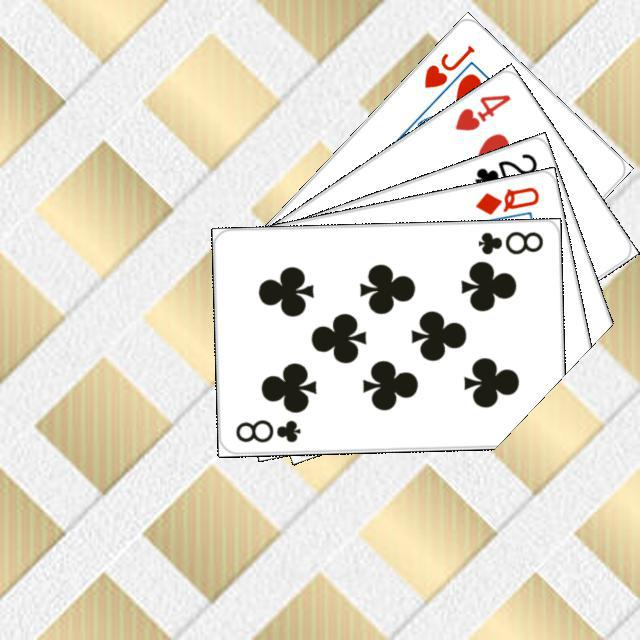2c: (469, 148, 539, 192)
4h: (450, 89, 513, 133)
8c: (472, 226, 545, 257), (231, 414, 303, 444)
Jh: (419, 40, 477, 90)
Qd: (470, 181, 541, 217)
